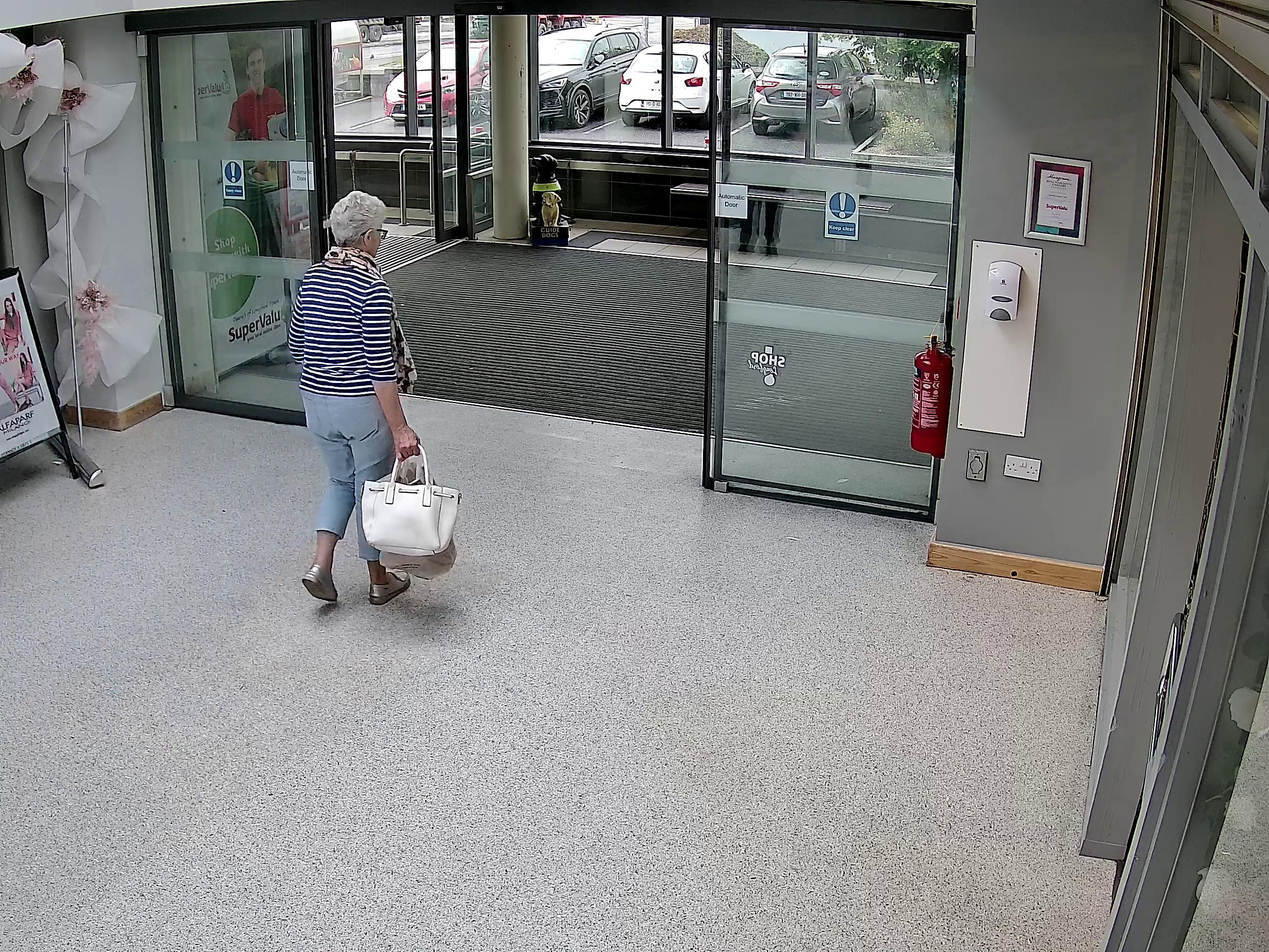backpack-or-handbag: (361, 453, 461, 556)
person: (289, 192, 420, 603)
person-with-backpack-handbag: (289, 188, 463, 605)
